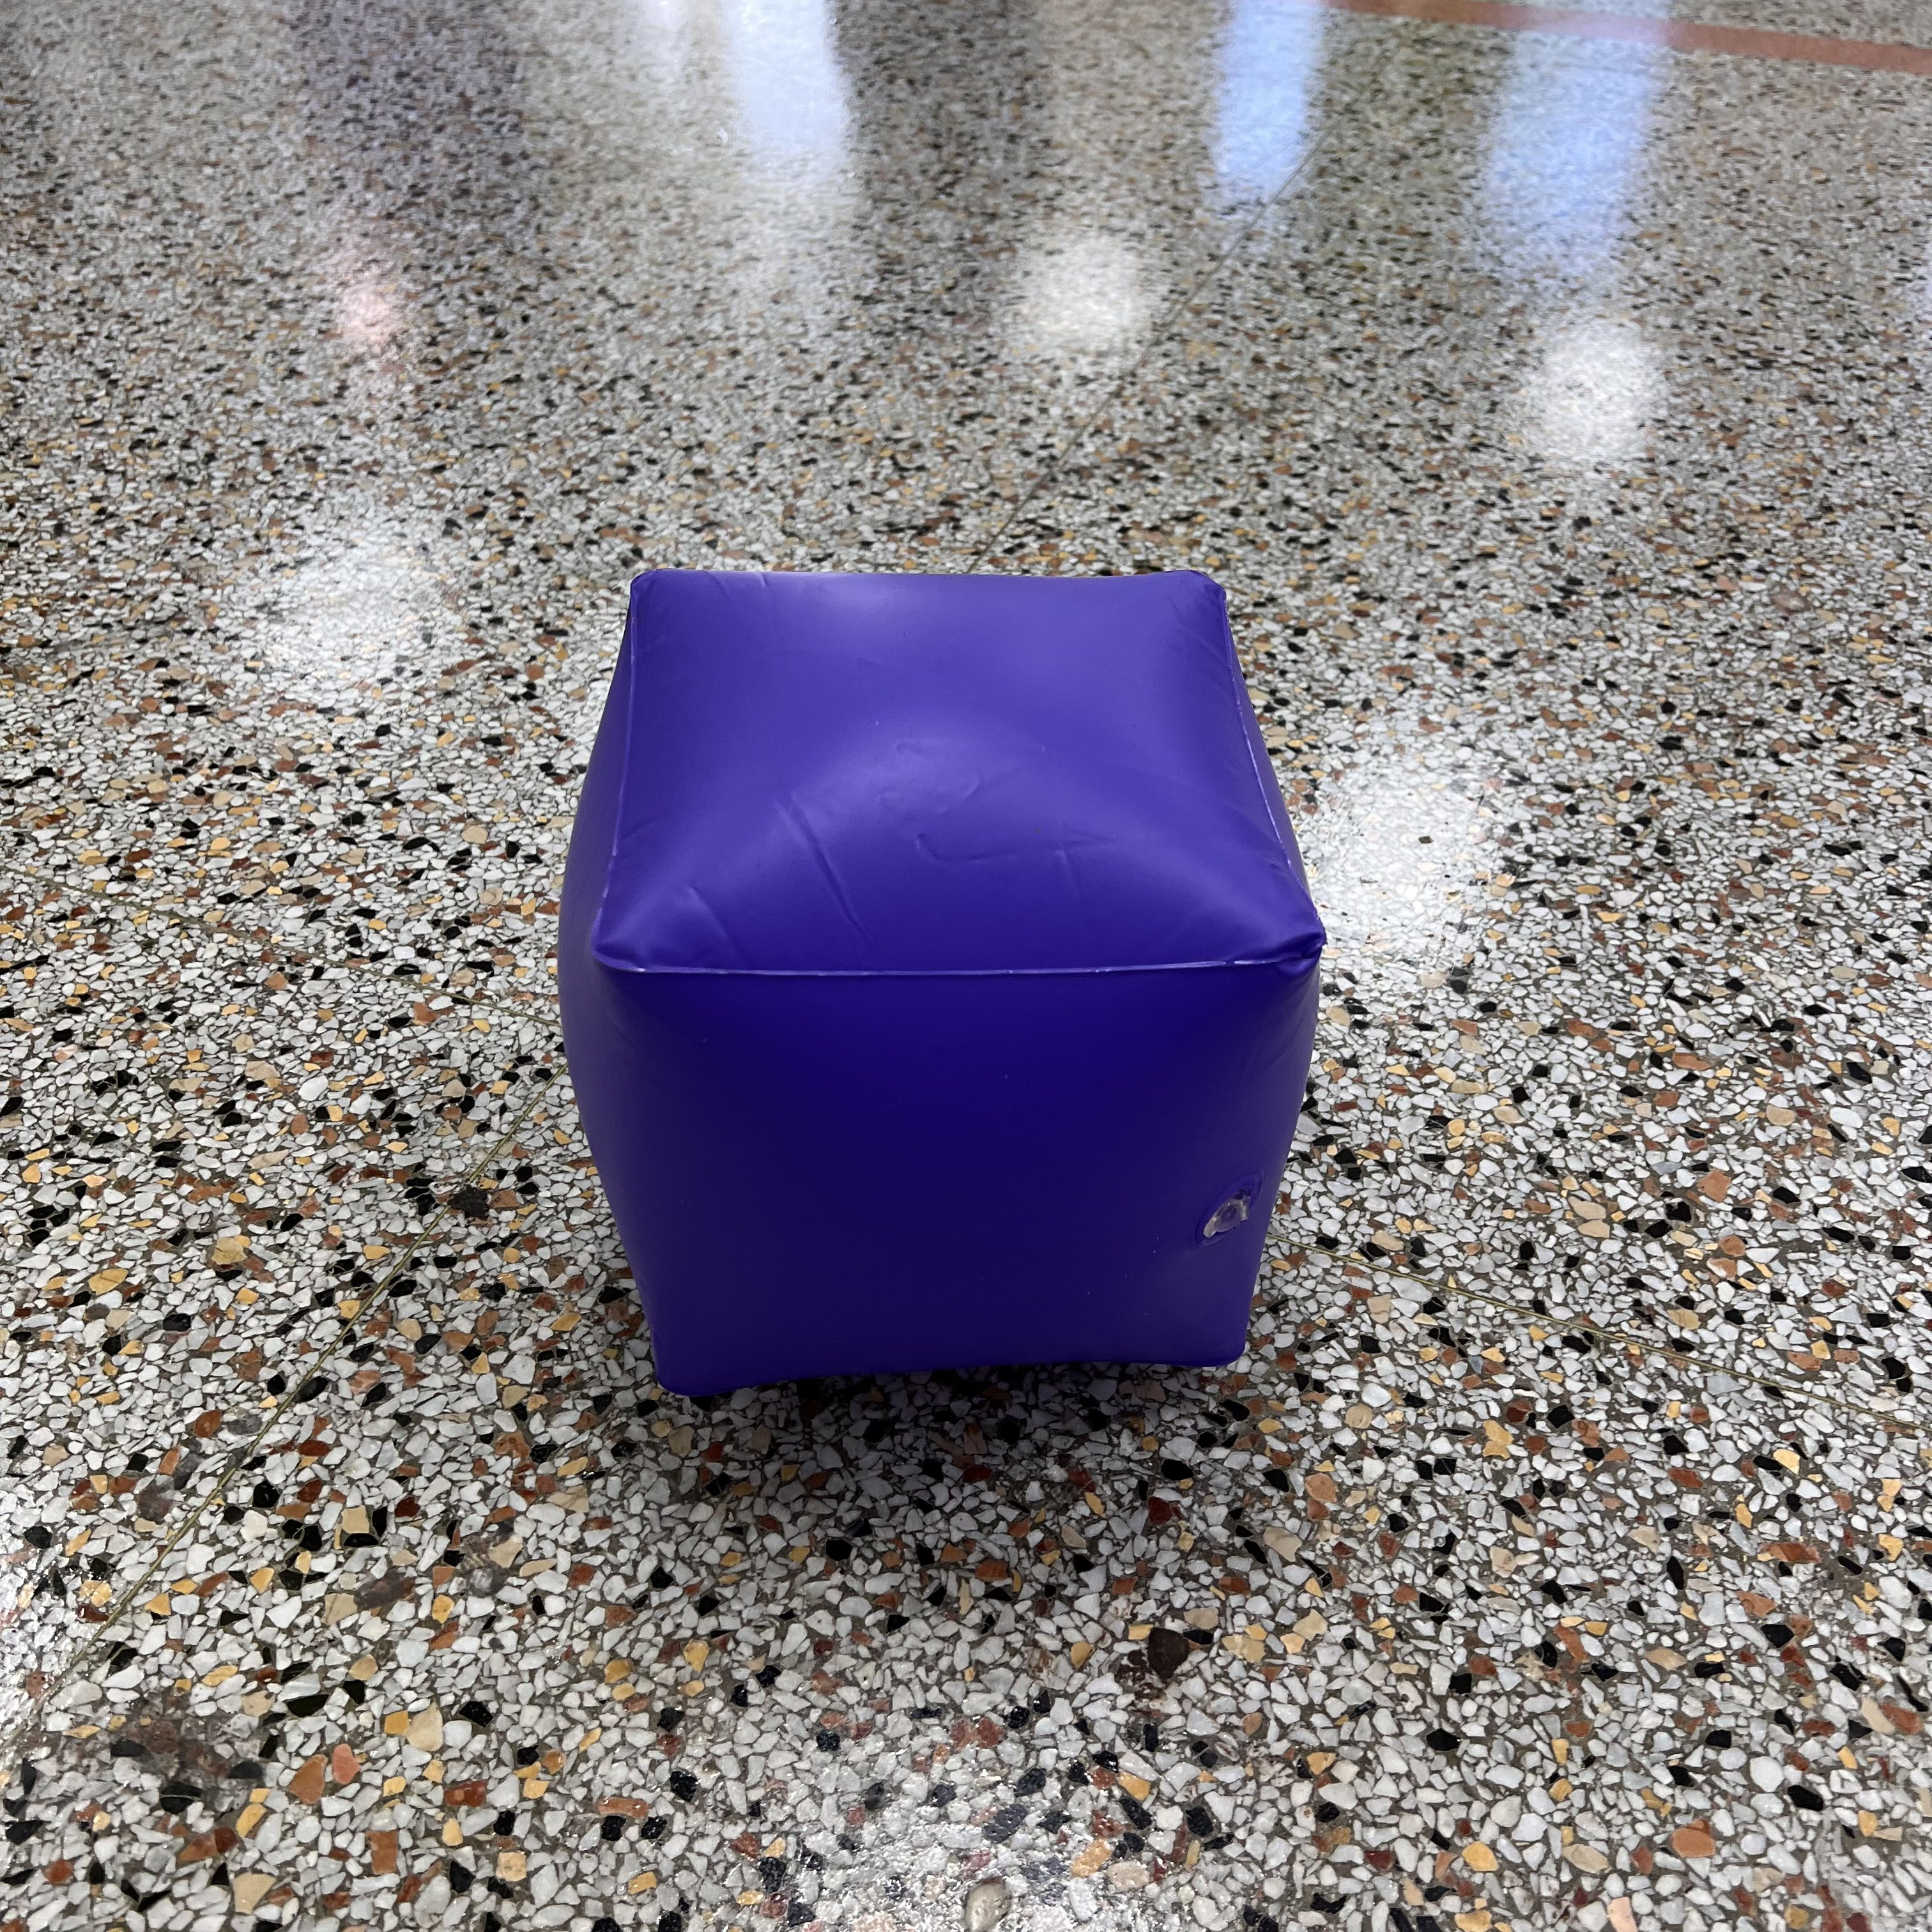cube: (557, 568, 1323, 1394)
